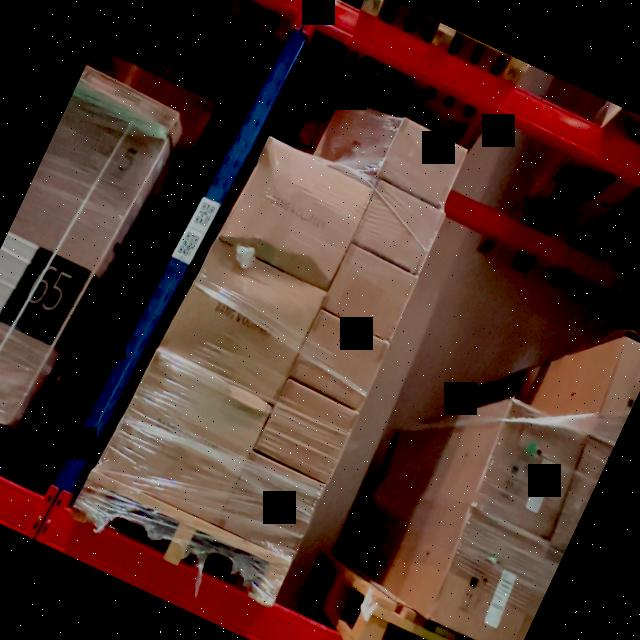box: (94, 349, 273, 523), (158, 237, 331, 404), (213, 139, 378, 291), (467, 400, 589, 539), (427, 509, 555, 640), (218, 452, 326, 562), (252, 379, 359, 486), (287, 309, 389, 415), (321, 244, 418, 342), (352, 181, 445, 277), (377, 117, 468, 210), (311, 100, 399, 186)
